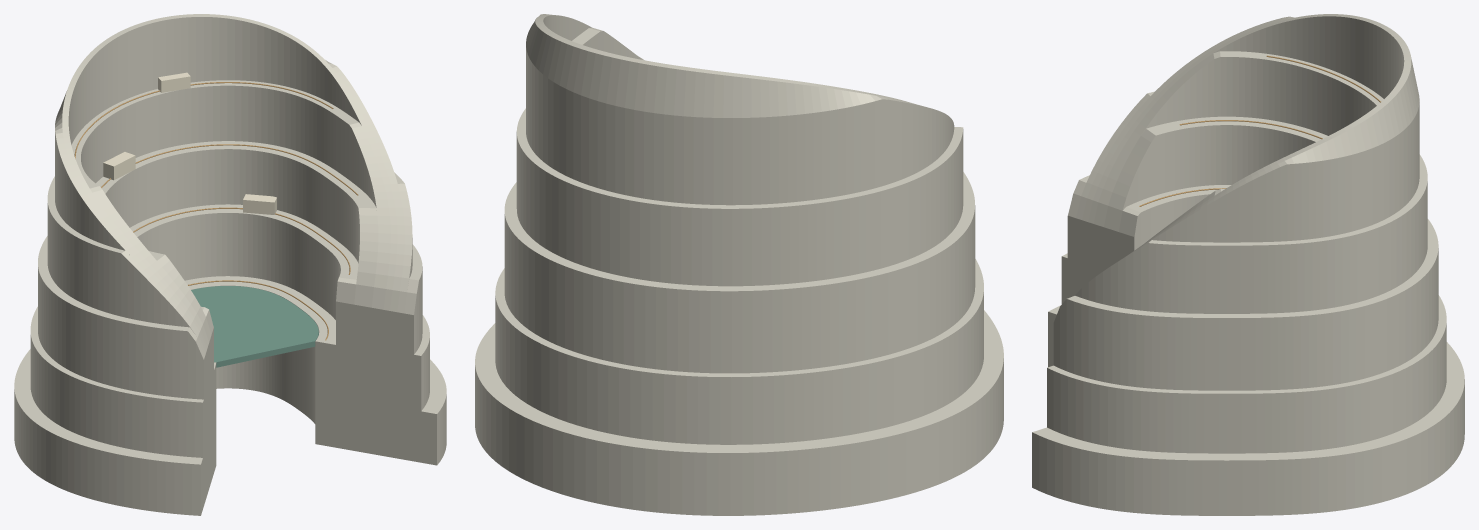
File: study.glb
The picture shows the model from 3 angles, left to right: view 1: azimuth 30°, elevation 25°; view 2: azimuth 150°, elevation 25°; view 3: azimuth 270°, elevation 25°; orthographic projection. The views are drawn at different scales.
Parts seen in each view (by area): view 1: N1 / single thick climate escarpment, N1 / open-sky climate ground, High university, Public archive, Sky conservatory; view 2: N1 / single thick climate escarpment; view 3: N1 / single thick climate escarpment.
Boxes of the visible parts, box(x1,y1,x2,y2) form: N1 / single thick climate escarpment: box(14, 14, 446, 515); N1 / open-sky climate ground: box(191, 286, 318, 367); High university: box(103, 152, 135, 180); Public archive: box(243, 194, 276, 214); Sky conservatory: box(158, 72, 190, 92); N1 / single thick climate escarpment: box(475, 14, 1003, 515); N1 / single thick climate escarpment: box(1032, 14, 1464, 515).
Size of the model in its own units: 4813 by 4350 by 4593.
